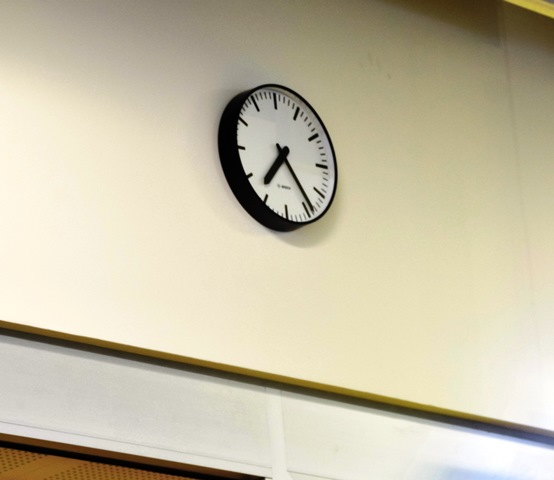clock: (238, 87, 337, 222)
